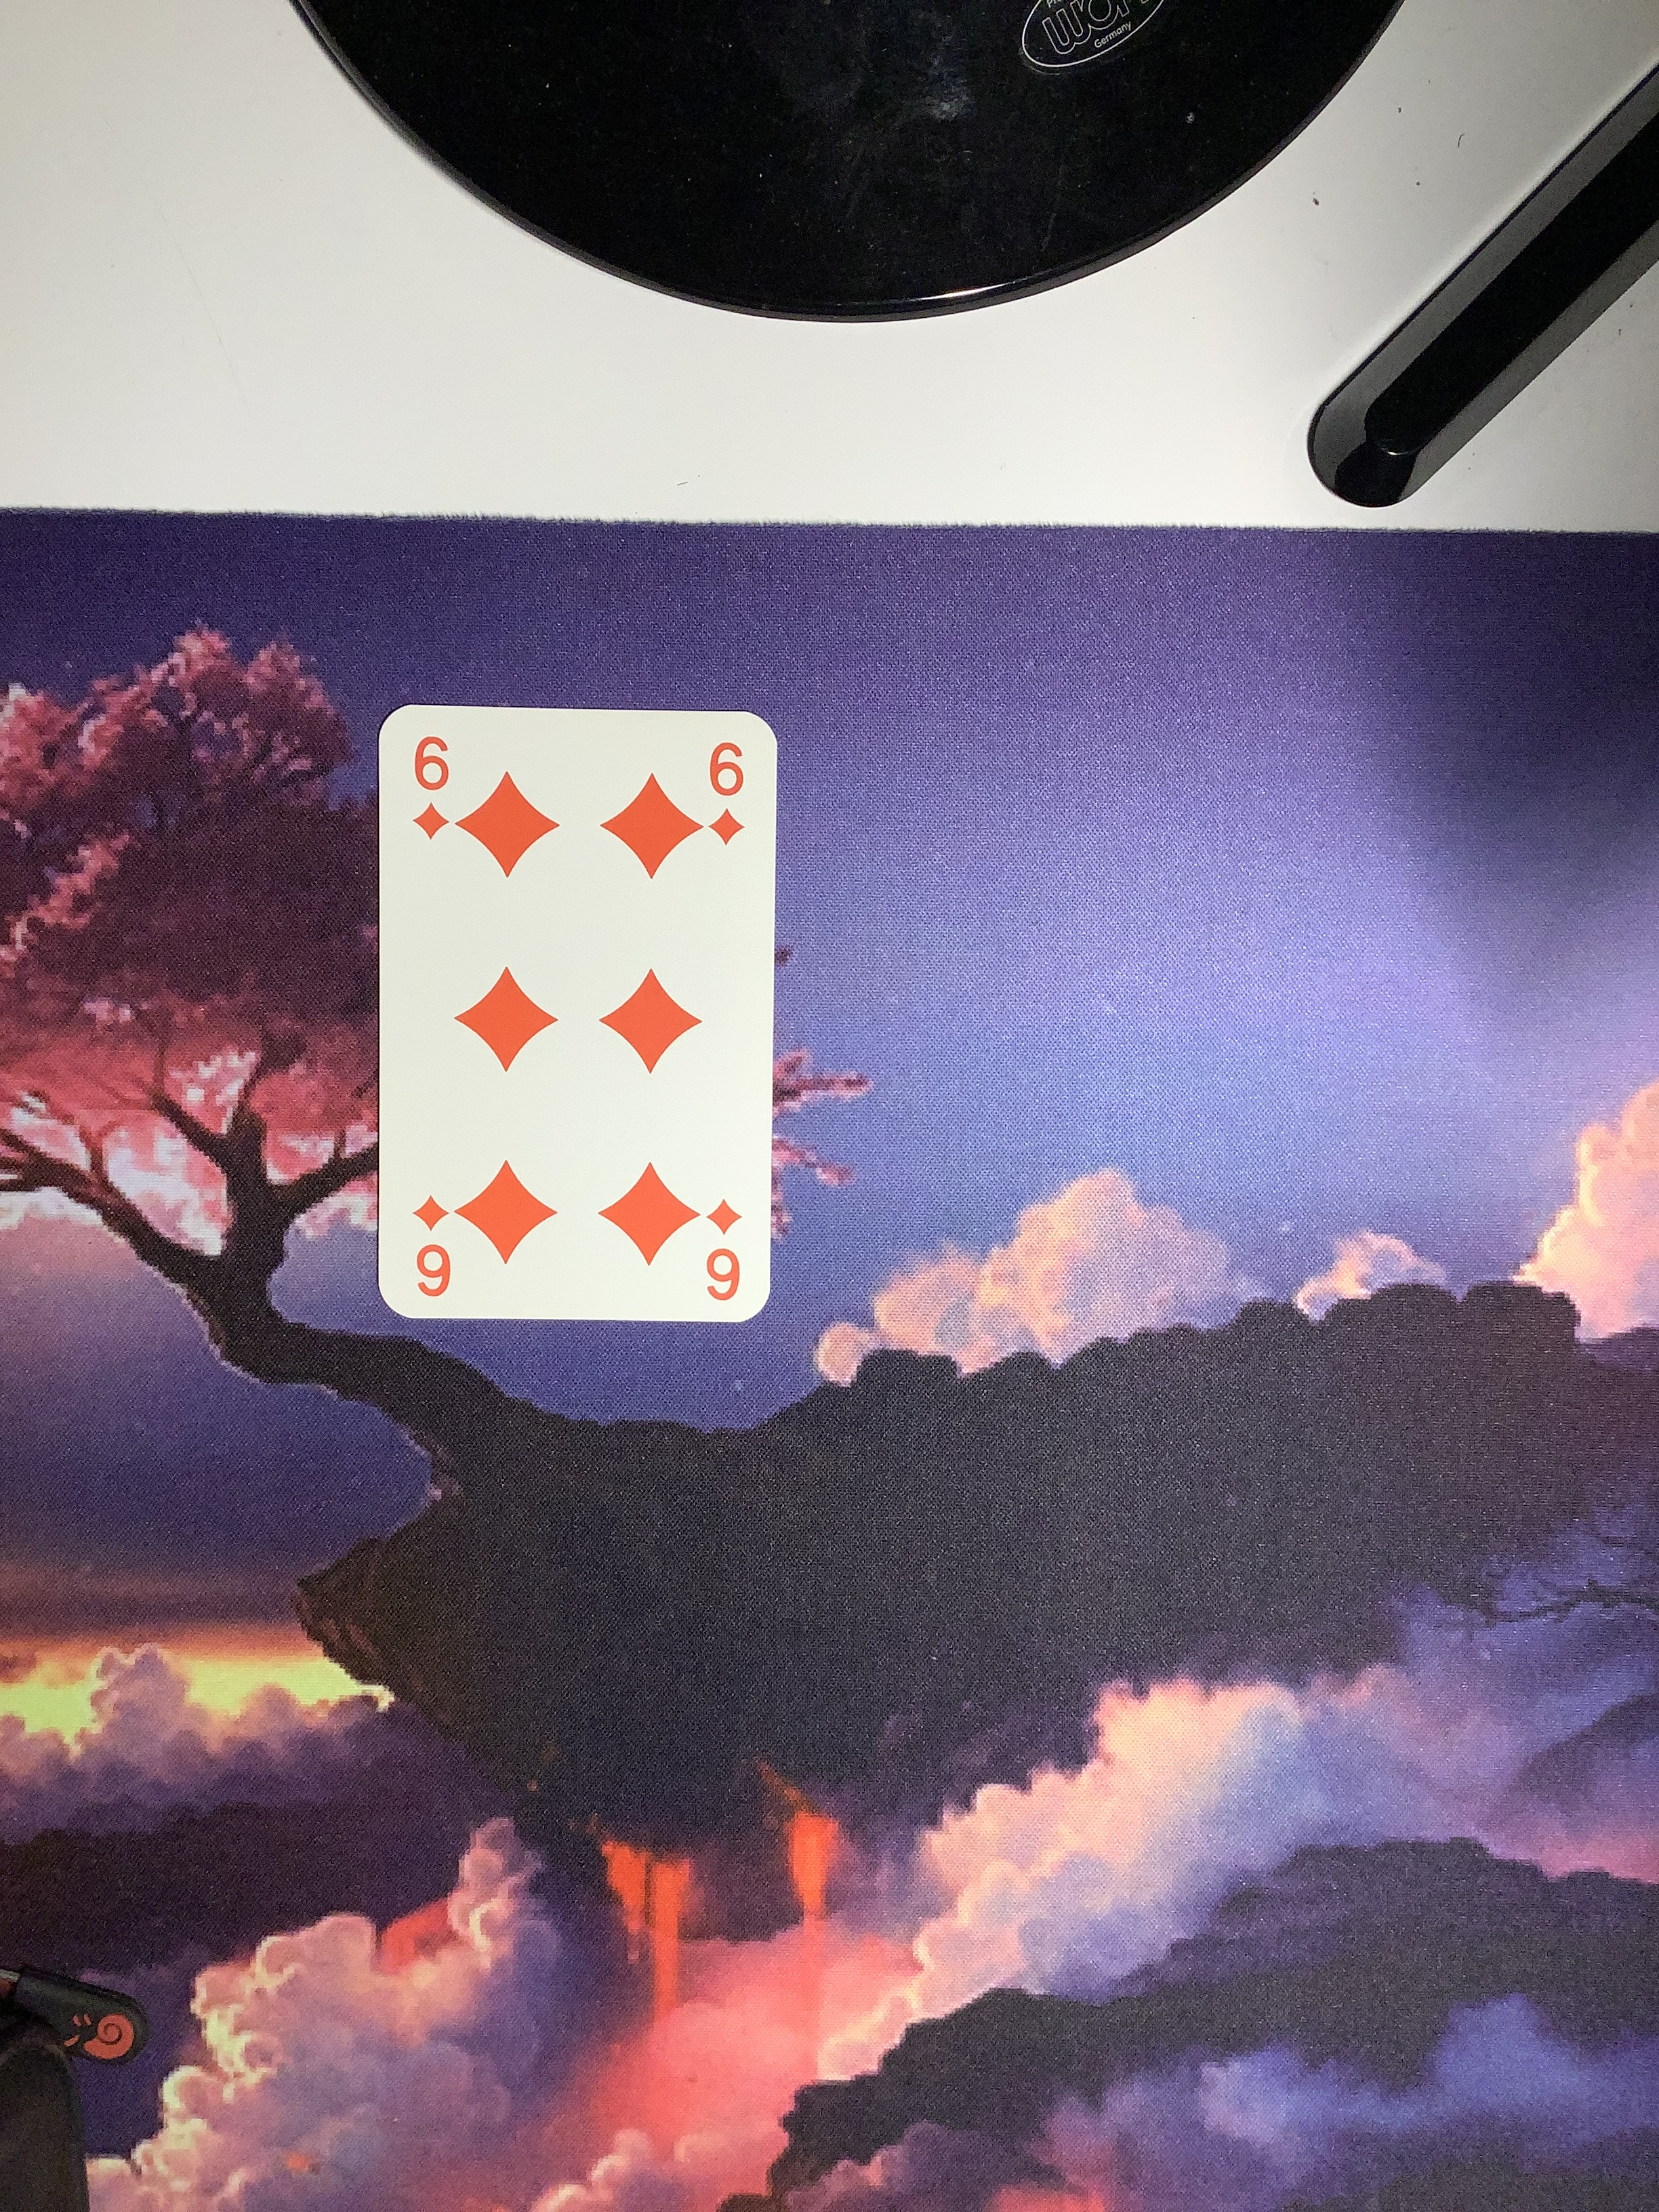♦ 6: (359, 691, 796, 1348)
